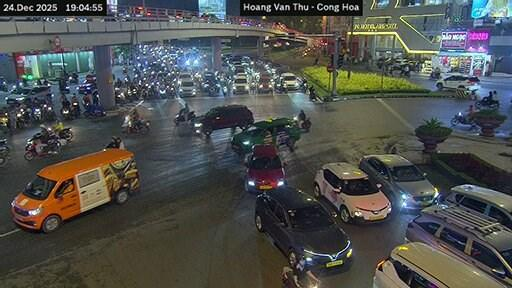motorbike: (25, 136, 60, 160), (121, 116, 149, 134), (453, 112, 476, 127), (282, 266, 297, 287), (173, 111, 195, 124), (83, 104, 105, 117), (53, 126, 73, 140), (41, 103, 56, 120), (476, 97, 499, 108), (0, 139, 9, 166), (294, 116, 309, 130), (0, 113, 9, 133), (16, 108, 25, 127), (70, 102, 79, 117), (32, 106, 41, 121), (61, 106, 73, 117), (67, 72, 76, 84), (58, 85, 70, 93), (428, 72, 440, 79), (400, 68, 409, 76), (300, 81, 307, 90), (309, 90, 316, 99), (307, 283, 317, 287), (121, 66, 127, 72)
